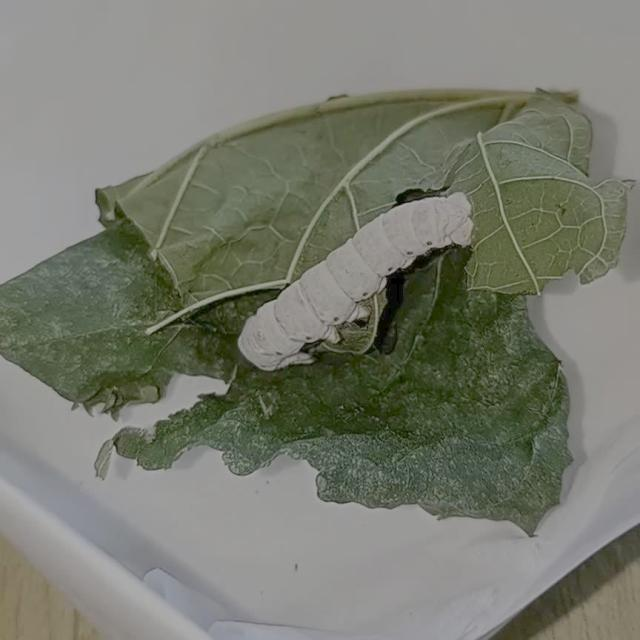Healthy: (205, 172, 516, 406)
